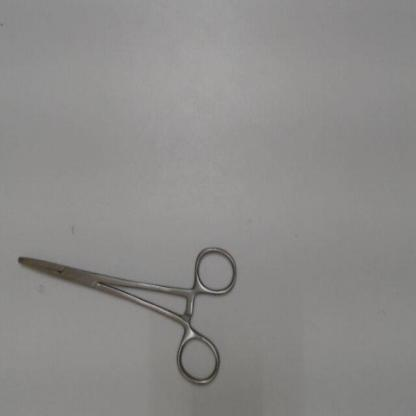Mayo Needle Holder: (13, 237, 245, 396)
